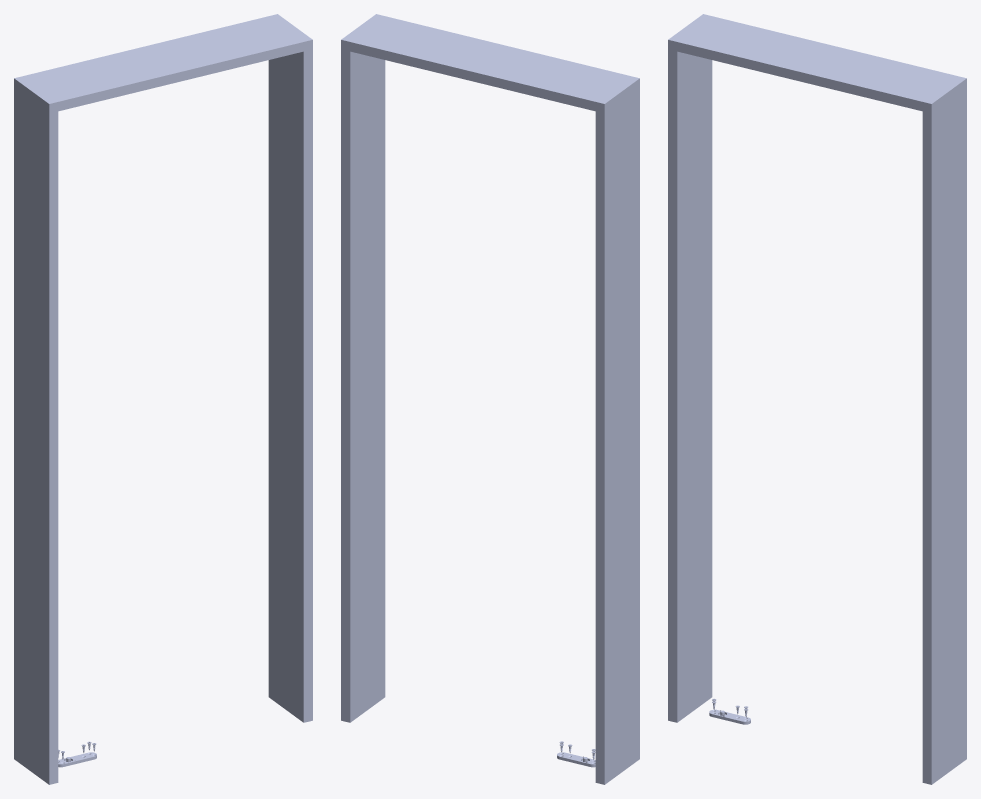
File: step-1.glb
3 views of the same model, side by side, from view 1: azimuth 30°, elevation 25°; view 2: azimuth 150°, elevation 25°; view 3: azimuth 330°, elevation 25° (orthographic).
Visible parts, largest first — view 1: door frame-1; view 2: door frame-1; view 3: door frame-1.
Boxes of the visible parts, <box> form: door frame-1: <box>14,14,312,784</box>; door frame-1: <box>341,14,639,784</box>; door frame-1: <box>668,14,966,784</box>.
Bounding box in the file's own units: 0.865 × 2.13 × 0.2.
